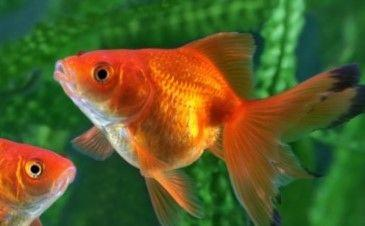Gold Fish: (54, 19, 365, 225), (1, 123, 77, 226)
